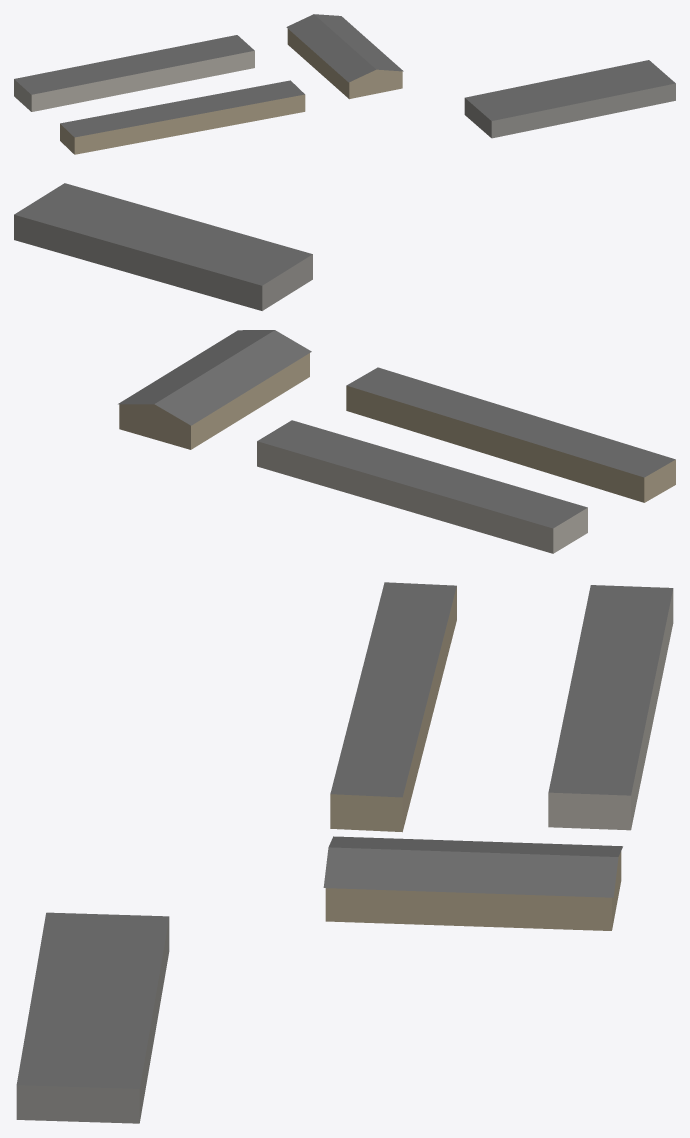
3 renders of one model, top to bottom at view 1: azimuth 30°, elevation 25°; view 2: azimuth 150°, elevation 25°; view 3: azimuth 270°, elevation 25°, orthographic. The views are drawn at different scales.
Visible parts, largest first — view 1: buildings; view 2: buildings; view 3: buildings.
Boxes of the visible parts, x1,y1,x2,y2 form: buildings: (14, 14, 675, 154); buildings: (14, 183, 675, 553); buildings: (16, 582, 673, 1123).
Size of the model in its own units: 186 by 9.73 by 103.
